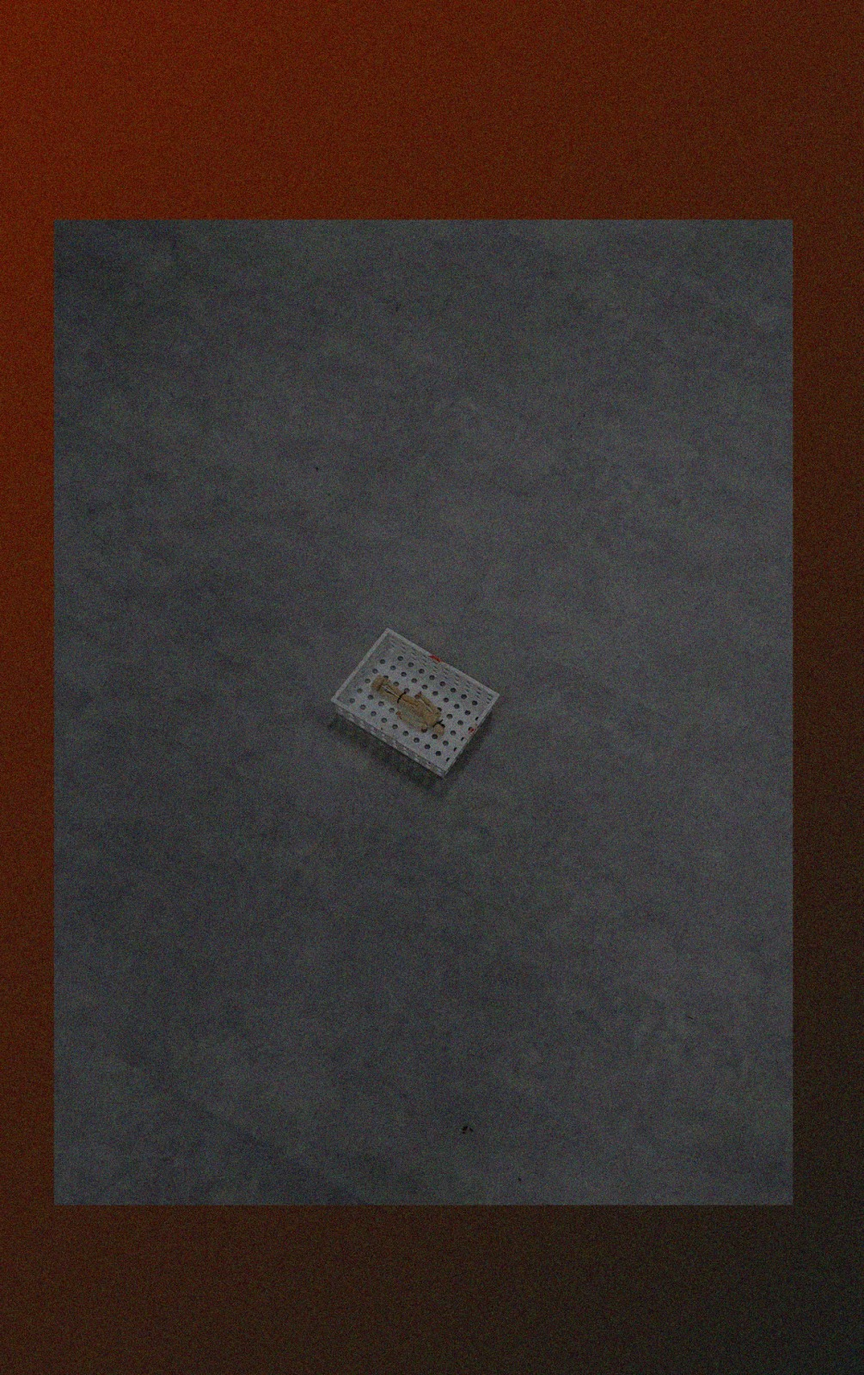basket: (327, 622, 503, 787)
mannequin: (368, 673, 447, 735)
